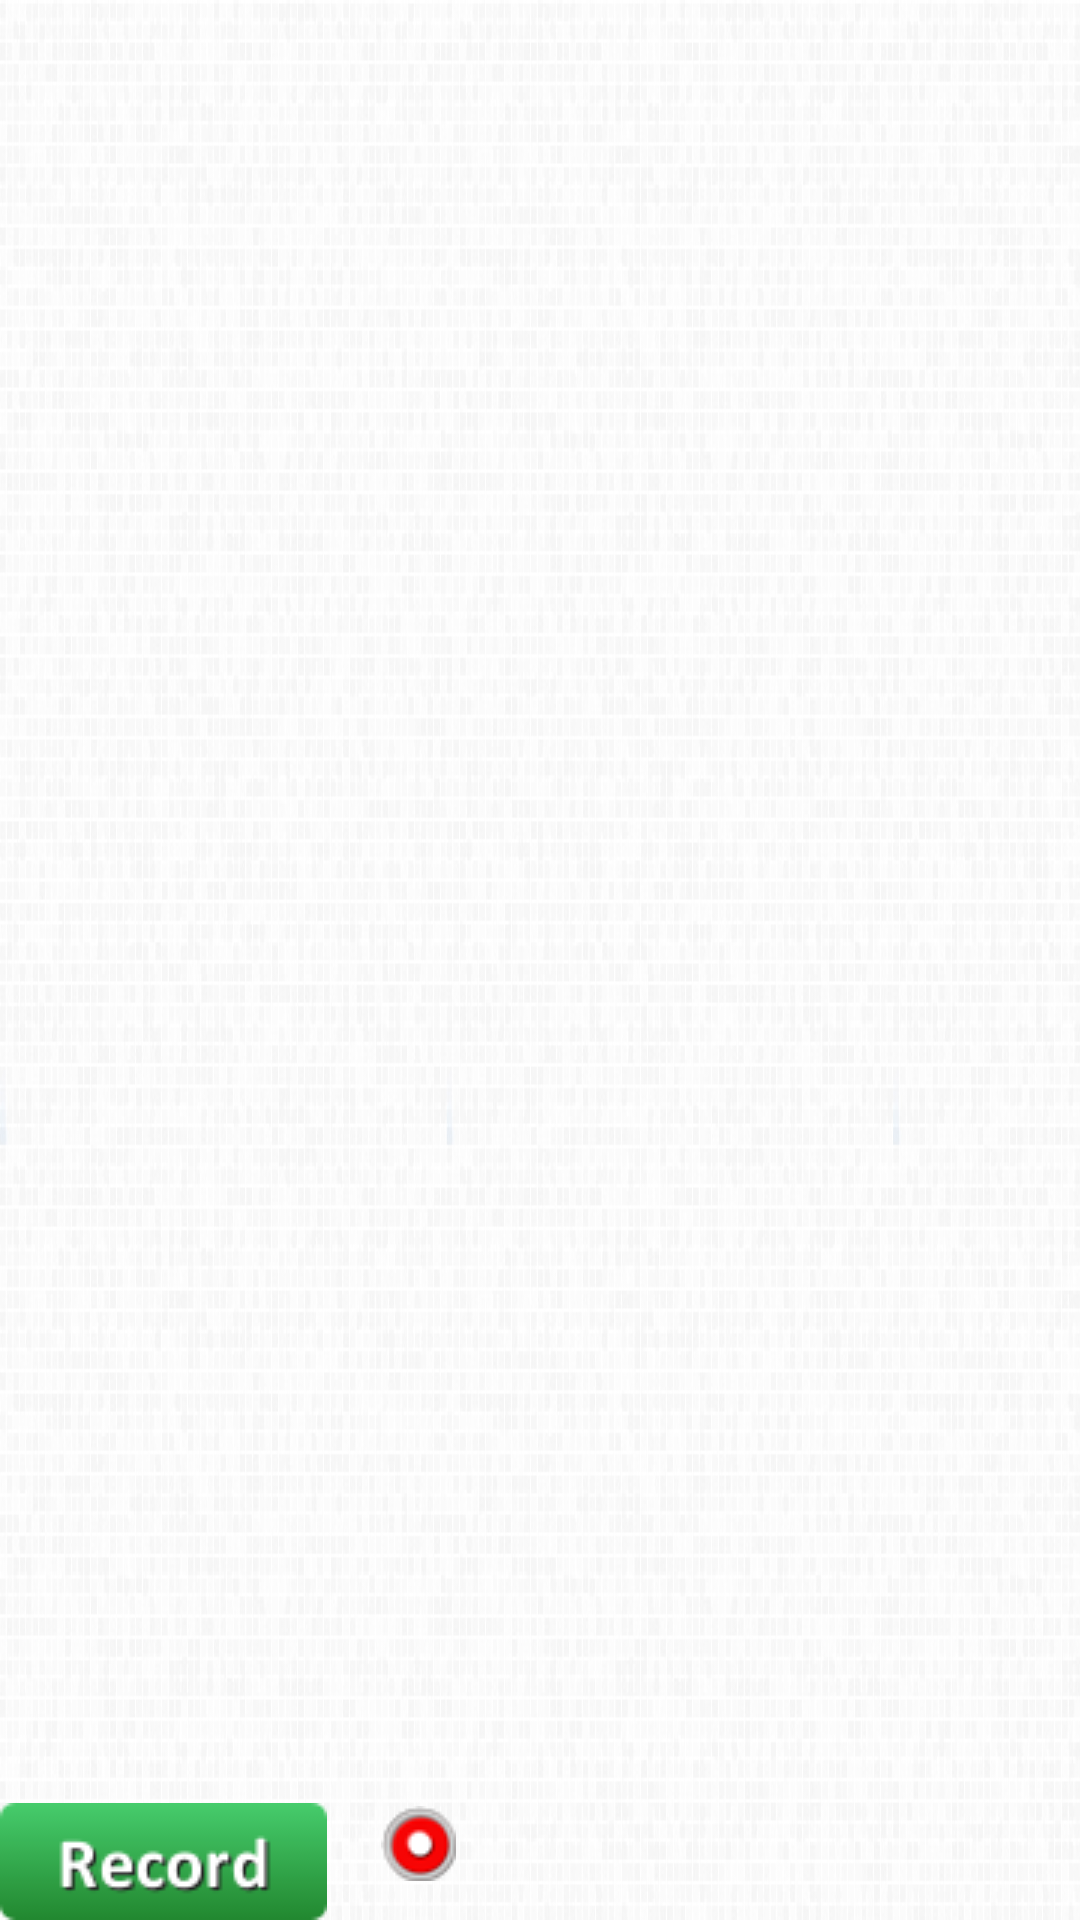

Icon bounding boxes for this 1080 × 1920 phone screenshot, format {"left": x1, "top": y1, "right": x2, "bottom": y2}:
recording: {"left": 382, "top": 1806, "right": 456, "bottom": 1881}
